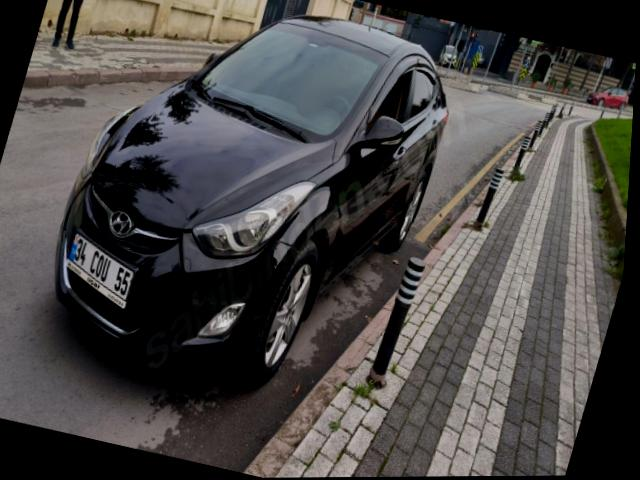plaka: (66, 233, 135, 306)
